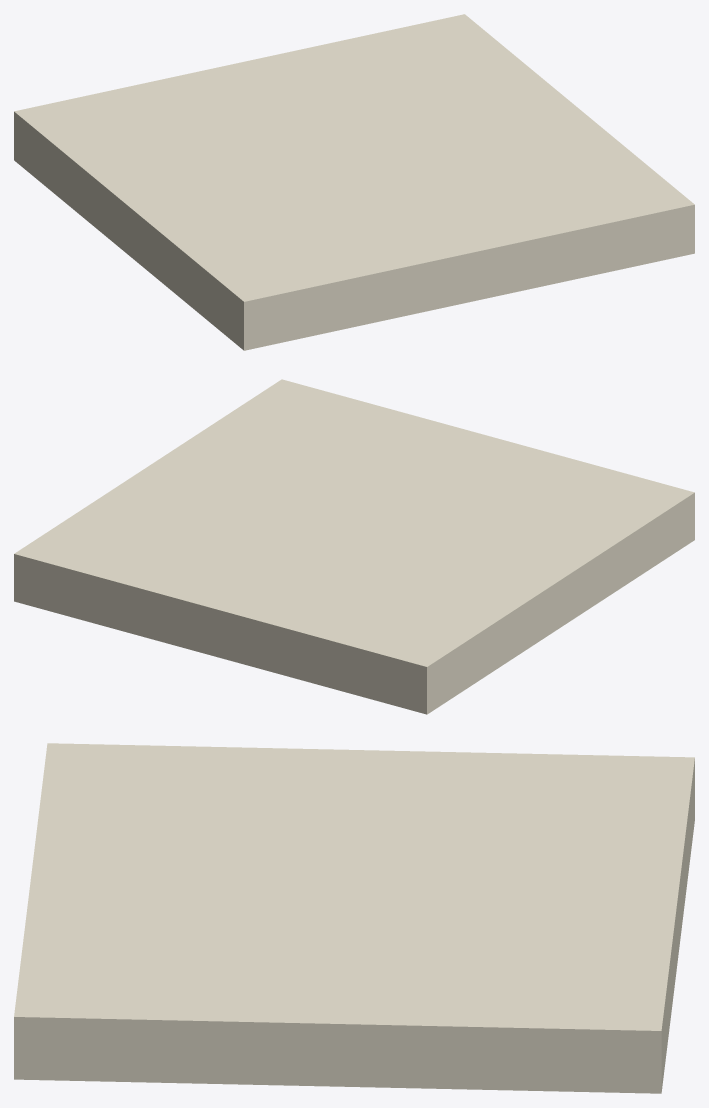
File: camino_12_lev1.glb
The picture shows the model from 3 angles, top to bottom: view 1: azimuth 30°, elevation 25°; view 2: azimuth 150°, elevation 25°; view 3: azimuth 270°, elevation 25°; orthographic projection. The views are drawn at different scales.
Visible parts, largest first — view 1: camino_12_lev1; view 2: camino_12_lev1; view 3: camino_12_lev1.
Part boxes in pixels (x1=…): camino_12_lev1: x1=14, y1=14, x2=694, y2=350; camino_12_lev1: x1=14, y1=379, x2=694, y2=714; camino_12_lev1: x1=14, y1=743, x2=694, y2=1093.
Bounding box in the file's own units: 1.58 × 0.16 × 1.58.
